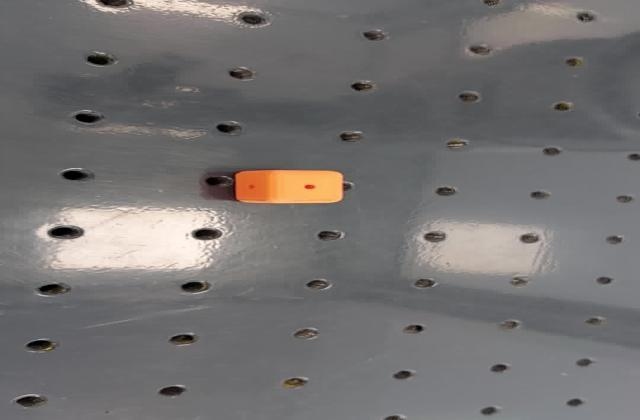cube: (231, 166, 350, 207)
